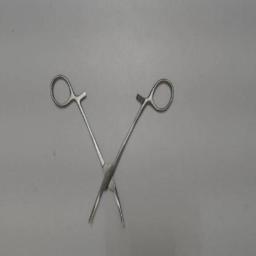Crile Artery Forceps: (40, 68, 178, 234)
